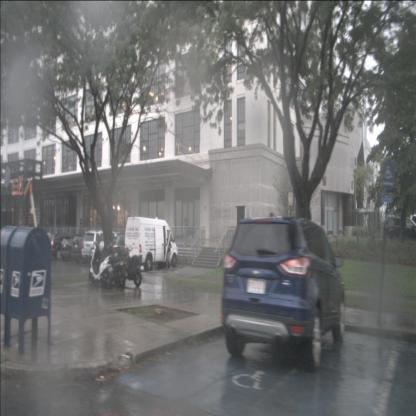human-pedestrian-adult: (162, 232, 173, 270), (184, 213, 190, 240)
vehicle-car: (221, 216, 346, 372), (124, 217, 178, 271), (80, 229, 122, 264), (109, 235, 143, 266), (71, 233, 104, 263), (44, 233, 78, 260), (384, 216, 416, 242), (60, 235, 89, 263)
vehicle-motorcycle: (88, 231, 115, 289), (100, 233, 128, 288), (114, 242, 143, 288)
